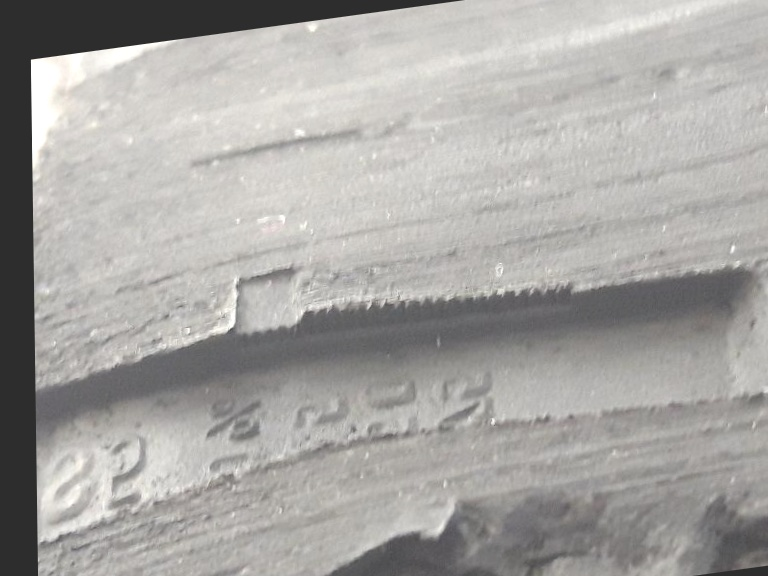temoin:0: (209, 242, 329, 385)
